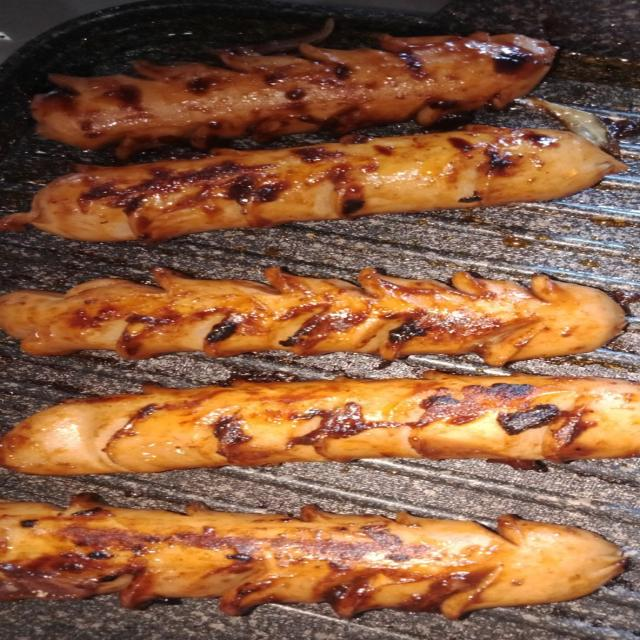sausage: (0, 495, 623, 618), (0, 126, 626, 242), (0, 373, 639, 475), (32, 33, 556, 156), (0, 268, 625, 365)
